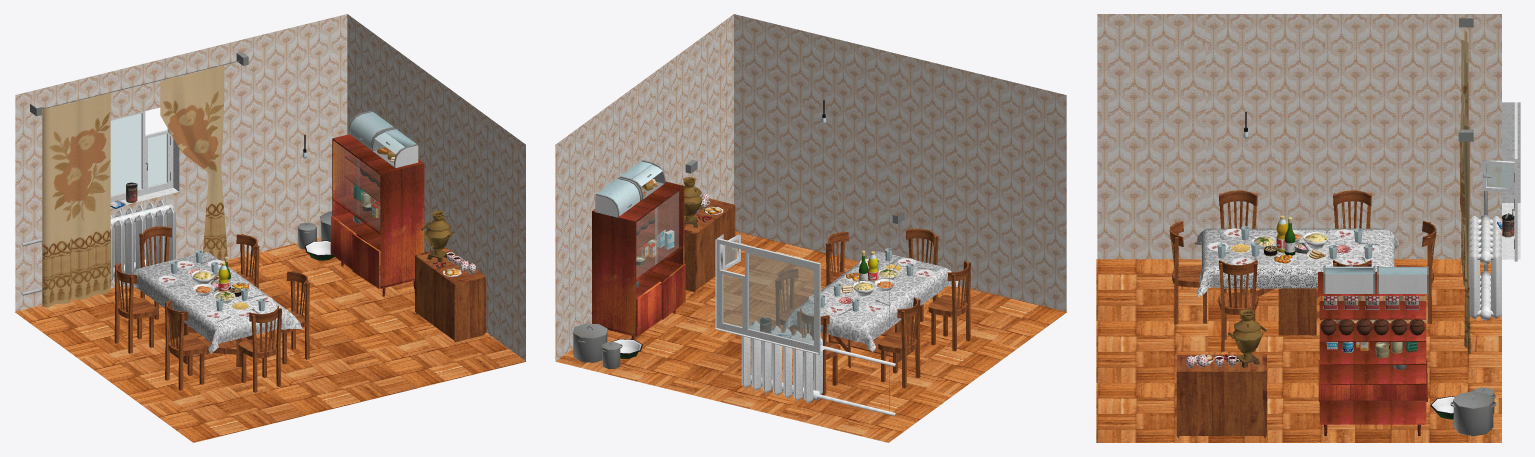
Rendered from itchiosovpack2.glb.
The picture shows the model from 3 angles, left to right: view 1: azimuth 30°, elevation 25°; view 2: azimuth 150°, elevation 25°; view 3: azimuth 270°, elevation 25°; orthographic projection. The views are drawn at different scales.
Visible parts, largest first — view 1: walls.002, floor.002, shtorki.002, closet.001, skatert.002, stol_zakrytyi.002, window.002, batareya.002, stul9.001, stul3.001, stul6.001, stul.002 (+6 smaller); view 2: walls.002, floor.002, closet.001, window.002, skatert.002, batareya.002, stol_zakrytyi.002, stul3.001, stul6.001, hlebniza.003, stul8.001, stul7.001 (+6 smaller); view 3: walls.002, floor.002, closet.001, stol_zakrytyi.002, skatert.002, batareya.002, shtorki.002, stol_otkrytyi.002, stul.002, window.002, hlebniza_001.001, hlebniza.003 (+7 smaller).
Part boxes in pixels (<box>): walls.002: <box>15,14,525,360</box>; floor.002: <box>15,237,525,442</box>; shtorki.002: <box>30,52,248,307</box>; closet.001: <box>330,134,424,296</box>; skatert.002: <box>120,252,303,353</box>; stol_zakrytyi.002: <box>415,247,486,342</box>; window.002: <box>110,111,173,202</box>; batareya.002: <box>21,200,175,295</box>; stul9.001: <box>239,305,281,392</box>; stul3.001: <box>165,300,207,390</box>; stul6.001: <box>114,263,156,353</box>; stul.002: <box>271,271,309,364</box>; walls.002: <box>555,14,1066,361</box>; floor.002: <box>556,231,1067,442</box>; closet.001: <box>592,181,685,339</box>; window.002: <box>716,234,820,354</box>; skatert.002: <box>783,250,960,351</box>; batareya.002: <box>741,321,895,416</box>; stol_zakrytyi.002: <box>684,198,735,291</box>; stul3.001: <box>928,260,970,351</box>; stul6.001: <box>878,297,920,387</box>; hlebniza.003: <box>595,177,641,217</box>; stul8.001: <box>797,308,840,395</box>; stul7.001: <box>775,268,811,337</box>; walls.002: <box>1097,14,1520,259</box>; floor.002: <box>1096,259,1501,442</box>; closet.001: <box>1318,272,1428,435</box>; stol_zakrytyi.002: <box>1176,354,1266,437</box>; skatert.002: <box>1194,228,1399,297</box>; batareya.002: <box>1468,177,1501,320</box>; shtorki.002: <box>1458,18,1473,353</box>; stol_otkrytyi.002: <box>1240,288,1320,335</box>; stul.002: <box>1218,260,1258,351</box>; window.002: <box>1482,102,1517,261</box>; hlebniza_001.001: <box>1323,265,1375,293</box>; hlebniza.003: <box>1377,266,1428,293</box>.
Size of the model in its own units: 6.44 by 4 by 6.27.
Materials: 3 (2 with a texture image).
